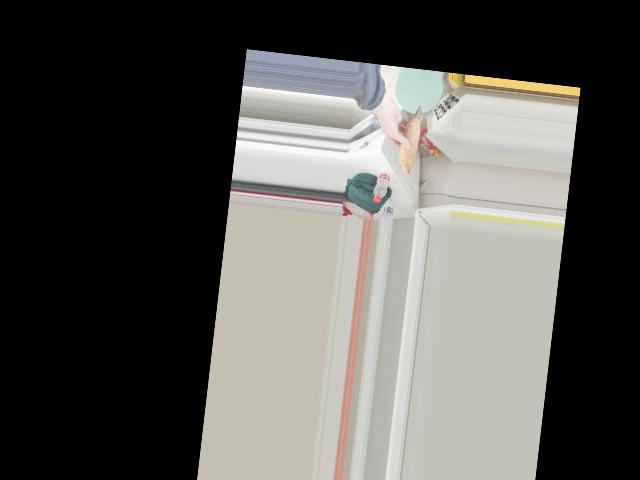sweet_potato: (395, 107, 422, 167)
